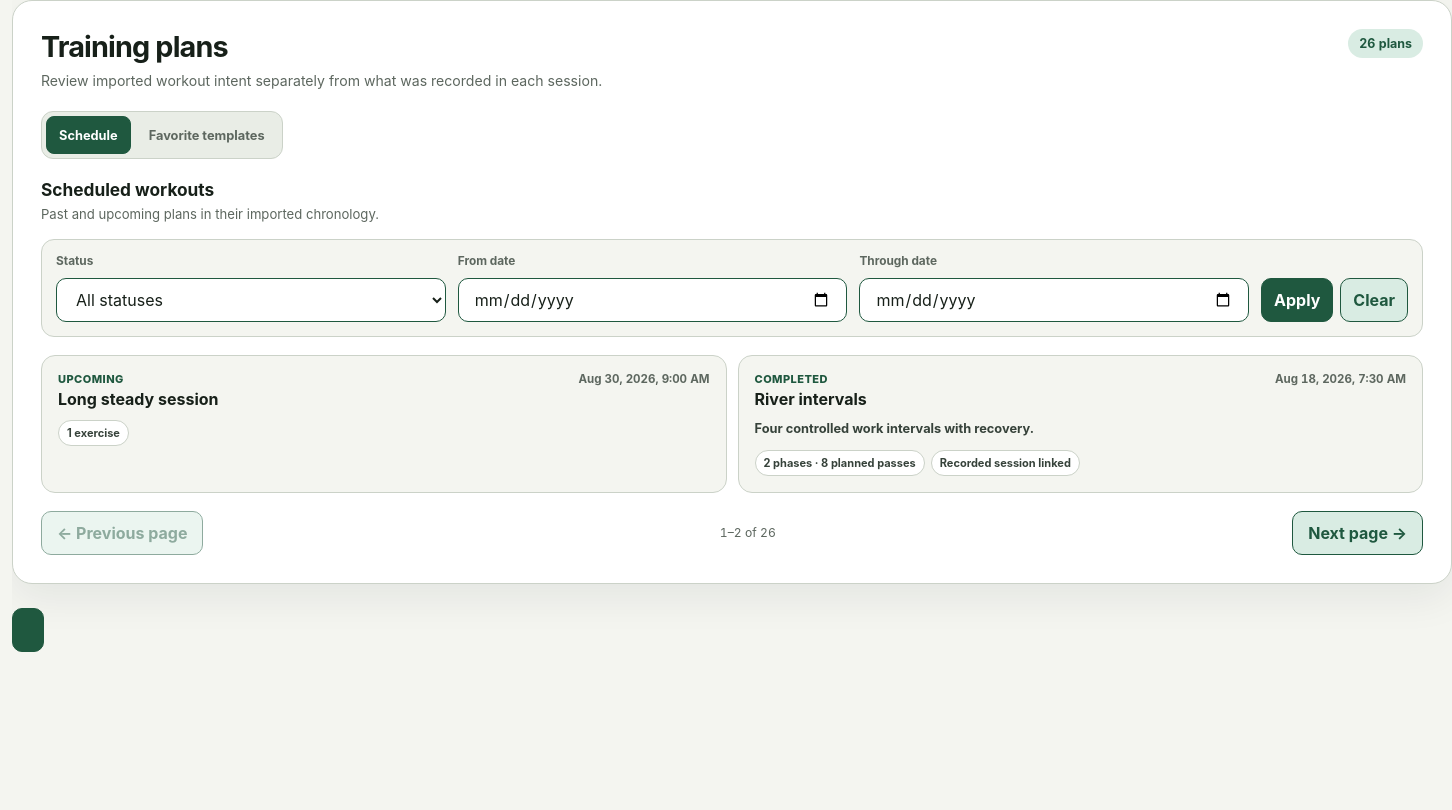
Test: PlannedTrainingPanel › names pagination controls and preserves the chronology snapshot
Check: the button "← Previous page" is disabled, box [41,511,203,555]
Click the button "Next page →": click(1358, 533) [1292,511,1423,555]
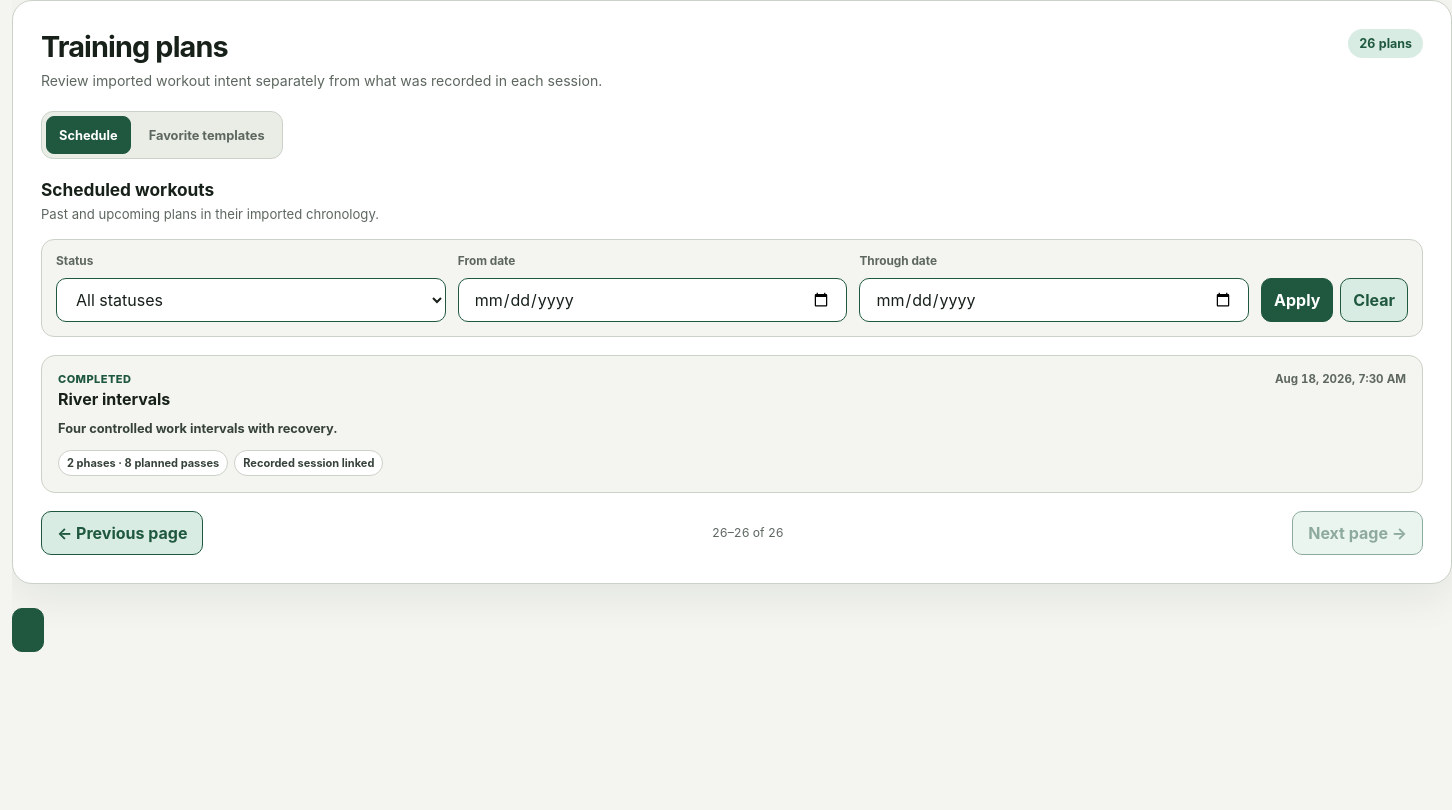
Check: the button "← Previous page" is enabled, box [41,511,203,555]
